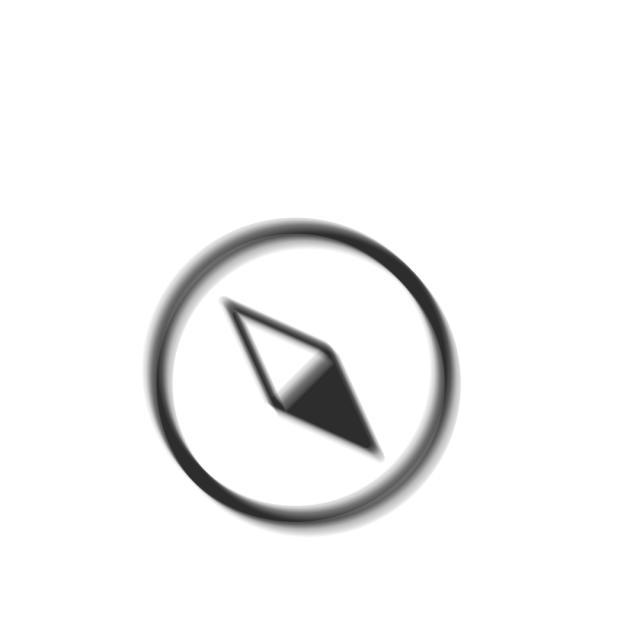compass: (140, 209, 467, 549)
